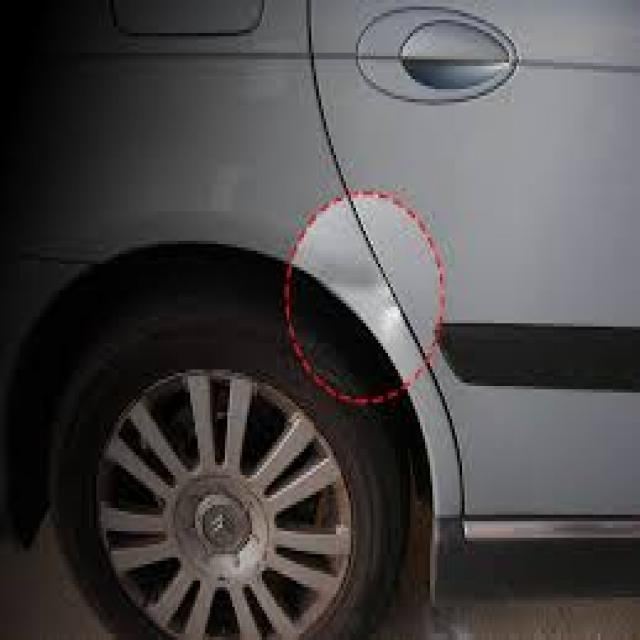minor: (342, 252, 417, 336)
